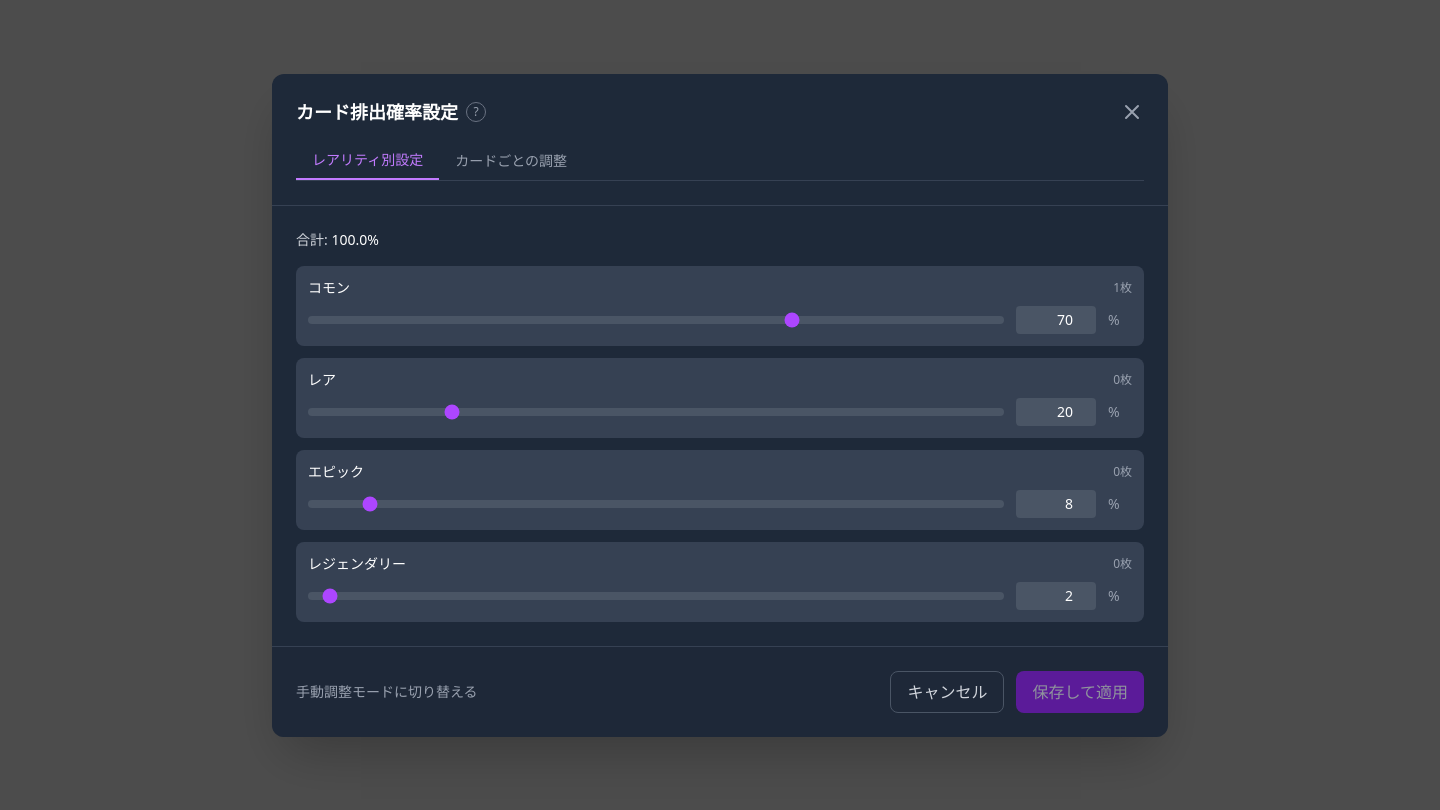
Test: DropRateAutoModeContent maintenance integration (rarity tab) › mode=off で変更ありのときは保存ボタンが操作可能（既存挙動を壊さない）
The image size is (1440, 810).
Replace the text in the number field below "1枚" with "71": (1056, 320) [1016, 306, 1096, 334]
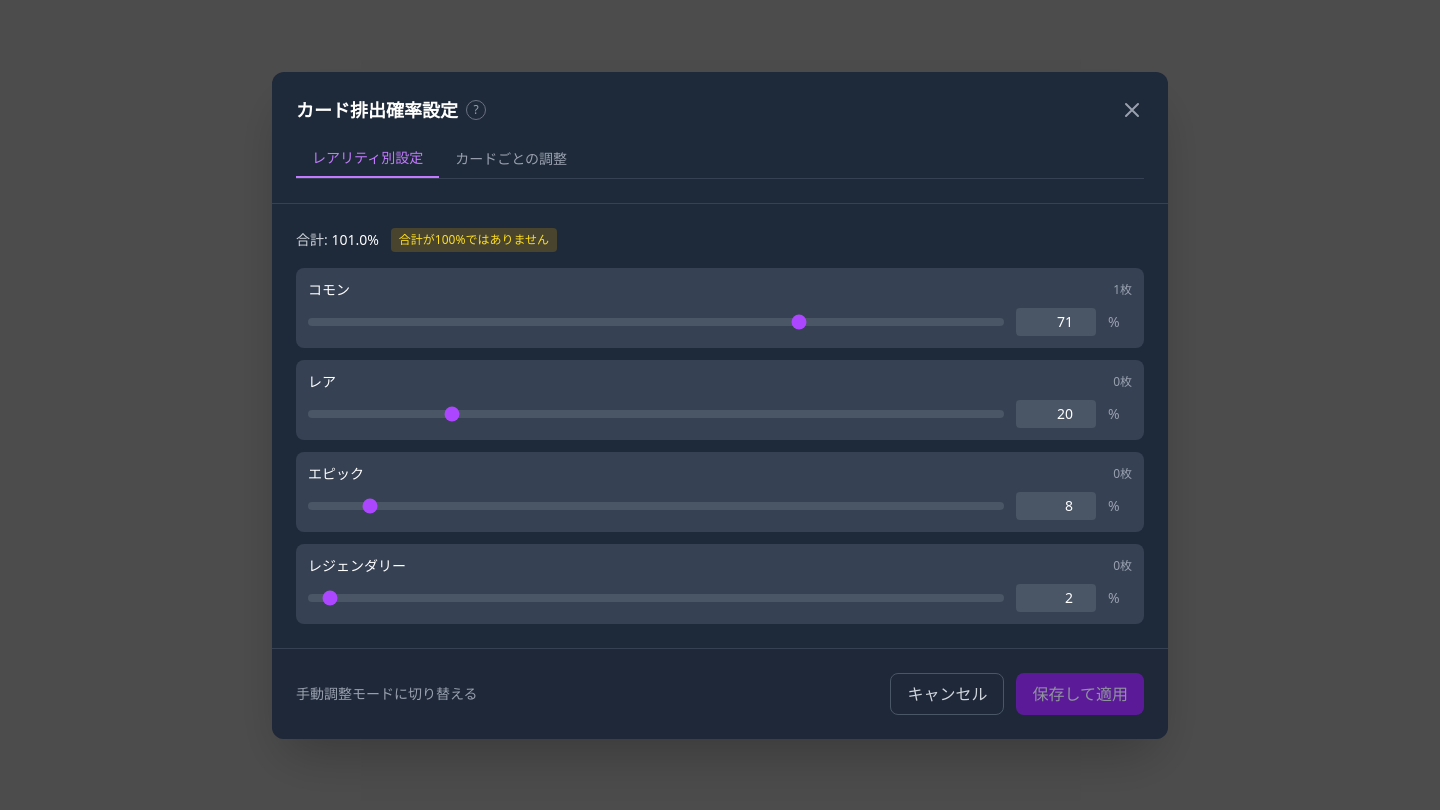
Replace the text in the 2nd number field with "19": (1056, 414) [1016, 400, 1096, 428]
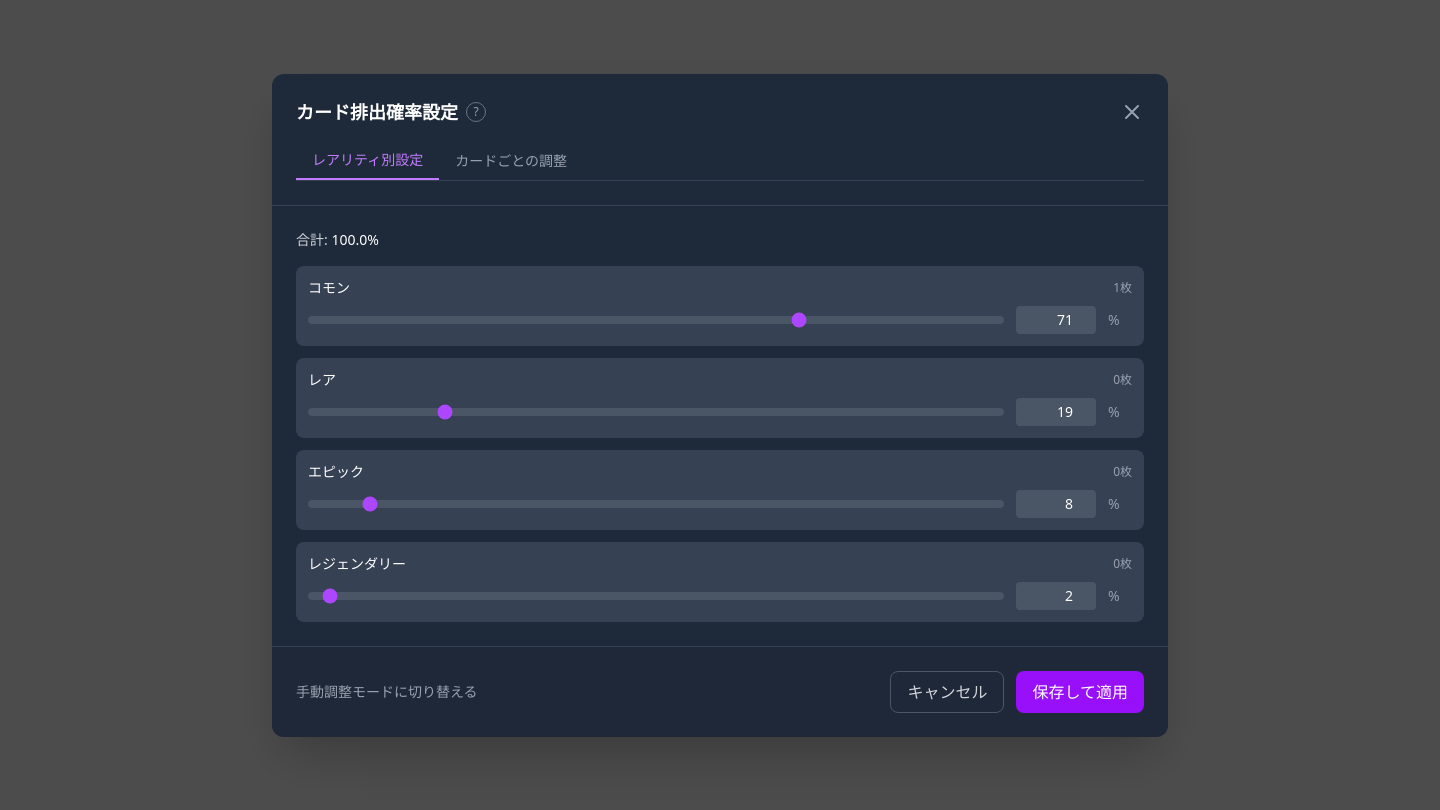
Check: the button "保存して適用" is enabled, box [1016, 670, 1144, 712]
